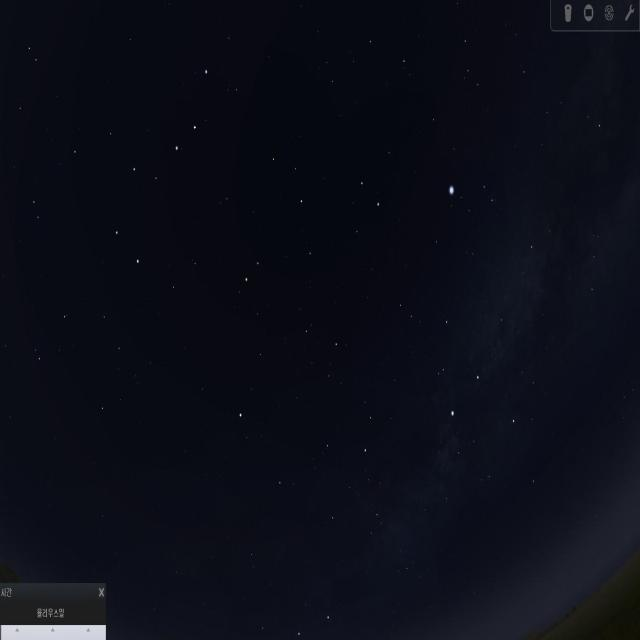cygnus: (438, 233, 540, 438)
lyra: (443, 160, 504, 238)
ursa_major: (106, 63, 217, 271)
